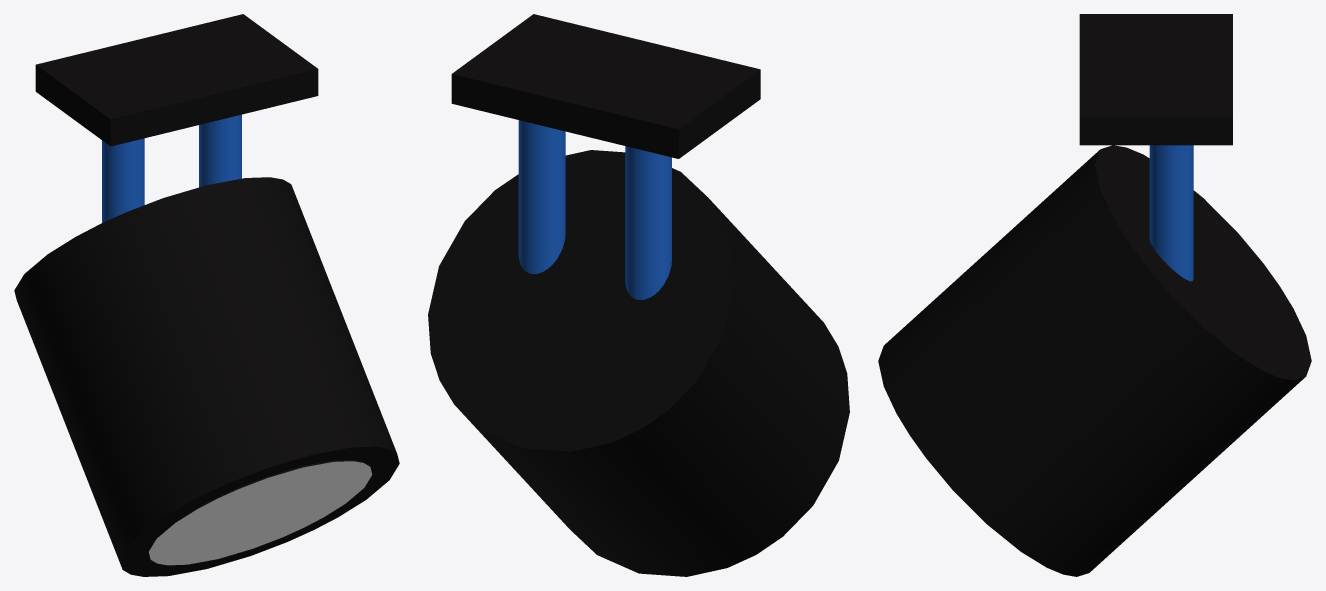
The model's file is spotlight.obj.
3 views of the same model, side by side, from view 1: azimuth 30°, elevation 25°; view 2: azimuth 150°, elevation 25°; view 3: azimuth 270°, elevation 25° (orthographic). The views are drawn at different scales.
Parts seen in each view (by area): view 1: Ring, BaseUp, Base, Base.001, Stands; view 2: BackA, Ring, BaseUp, Stands; view 3: Ring, BaseUp, BackA, Stands.
Boxes of the visible parts, x1,y1,x2,y2 form: Ring: [14, 177, 396, 568]; BaseUp: [35, 14, 318, 146]; Base: [149, 461, 372, 565]; Base.001: [120, 446, 399, 576]; Stands: [102, 114, 241, 222]; BackA: [428, 150, 733, 451]; Ring: [455, 199, 849, 576]; BaseUp: [451, 14, 760, 158]; Stands: [518, 120, 671, 299]; Ring: [878, 150, 1305, 576]; BaseUp: [1079, 14, 1232, 145]; BackA: [1095, 145, 1311, 380]; Stands: [1149, 145, 1193, 281].
Size of the model in its own units: 2 by 3.54 by 2.83.
